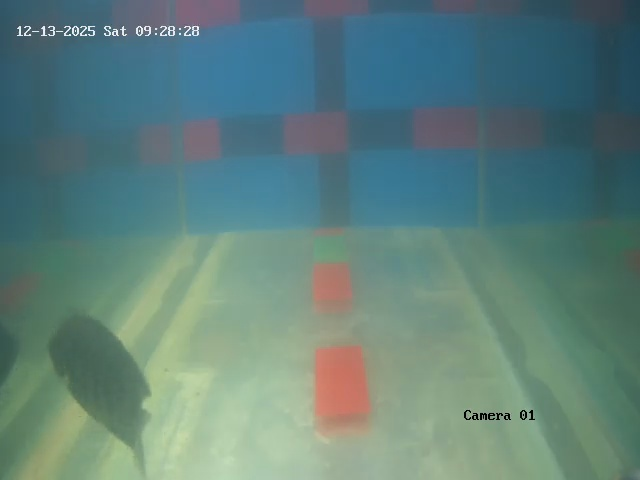fish: (40, 303, 156, 451)
